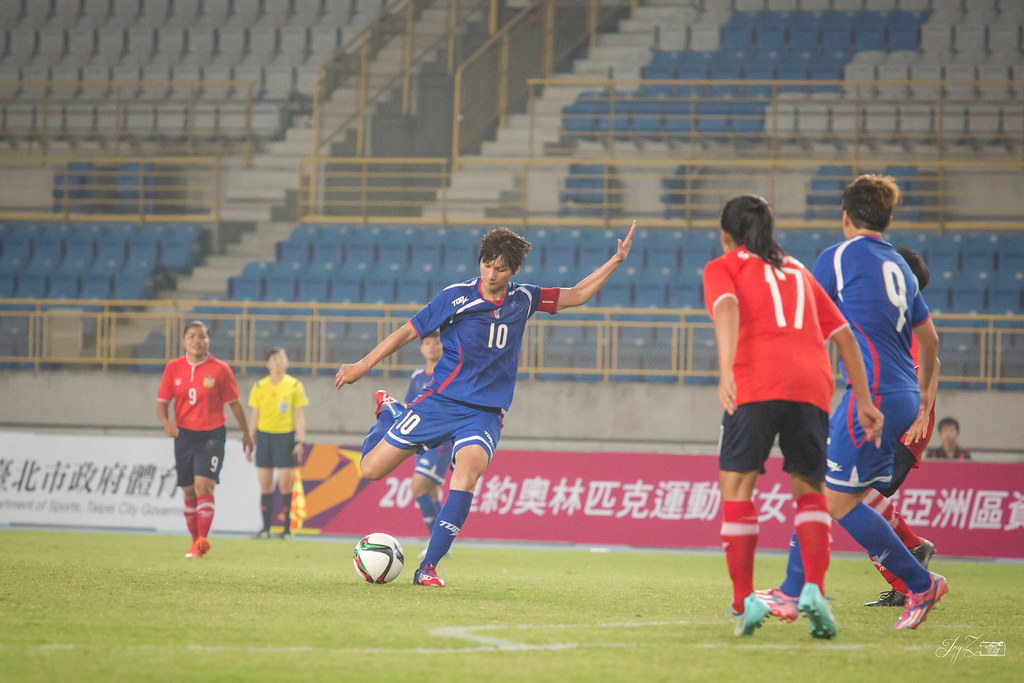football: (352, 531, 407, 586)
